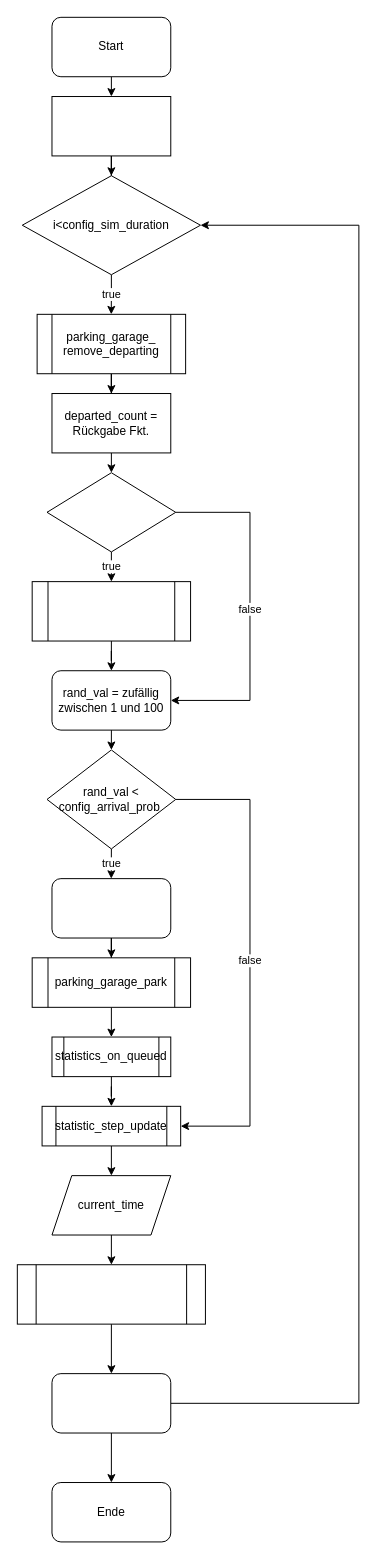
The diagram is 384 pixels wide and 1559 high, and some of its shapes have lost their labels. Each missing label, with the box of its shape:
departed_count >0: (46, 472, 176, 552)
i=0: (51, 96, 171, 156)
i=i+1: (51, 1373, 171, 1433)
neues Fahrzeug erstellen, mit zufälliger Parkdauer, id und Einfahrtszeit: (51, 878, 171, 938)
print_parking_garage_status: (16, 1264, 205, 1324)
statistic_on_departure: (31, 581, 191, 641)
